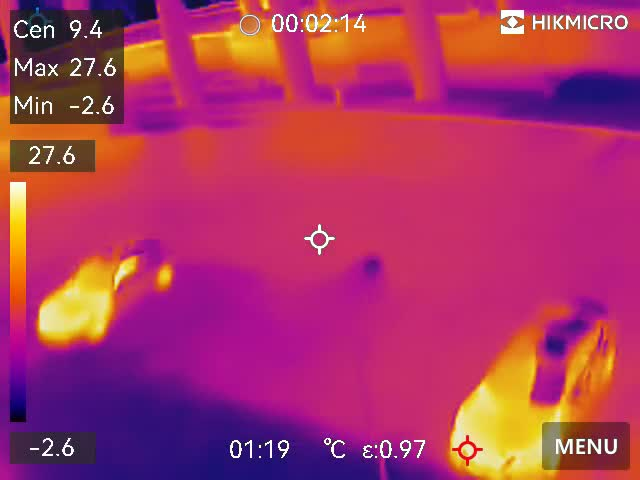smallCar: (420, 264, 627, 480), (28, 222, 179, 355)
